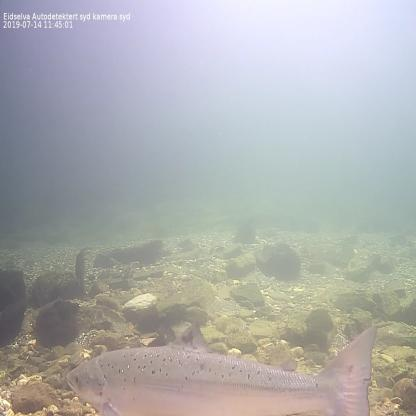salmon: (64, 318, 381, 416)
